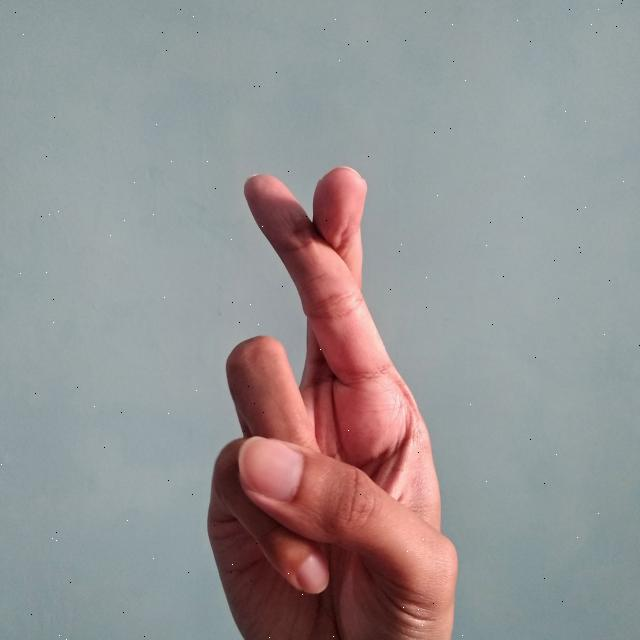R: (199, 157, 464, 640)
